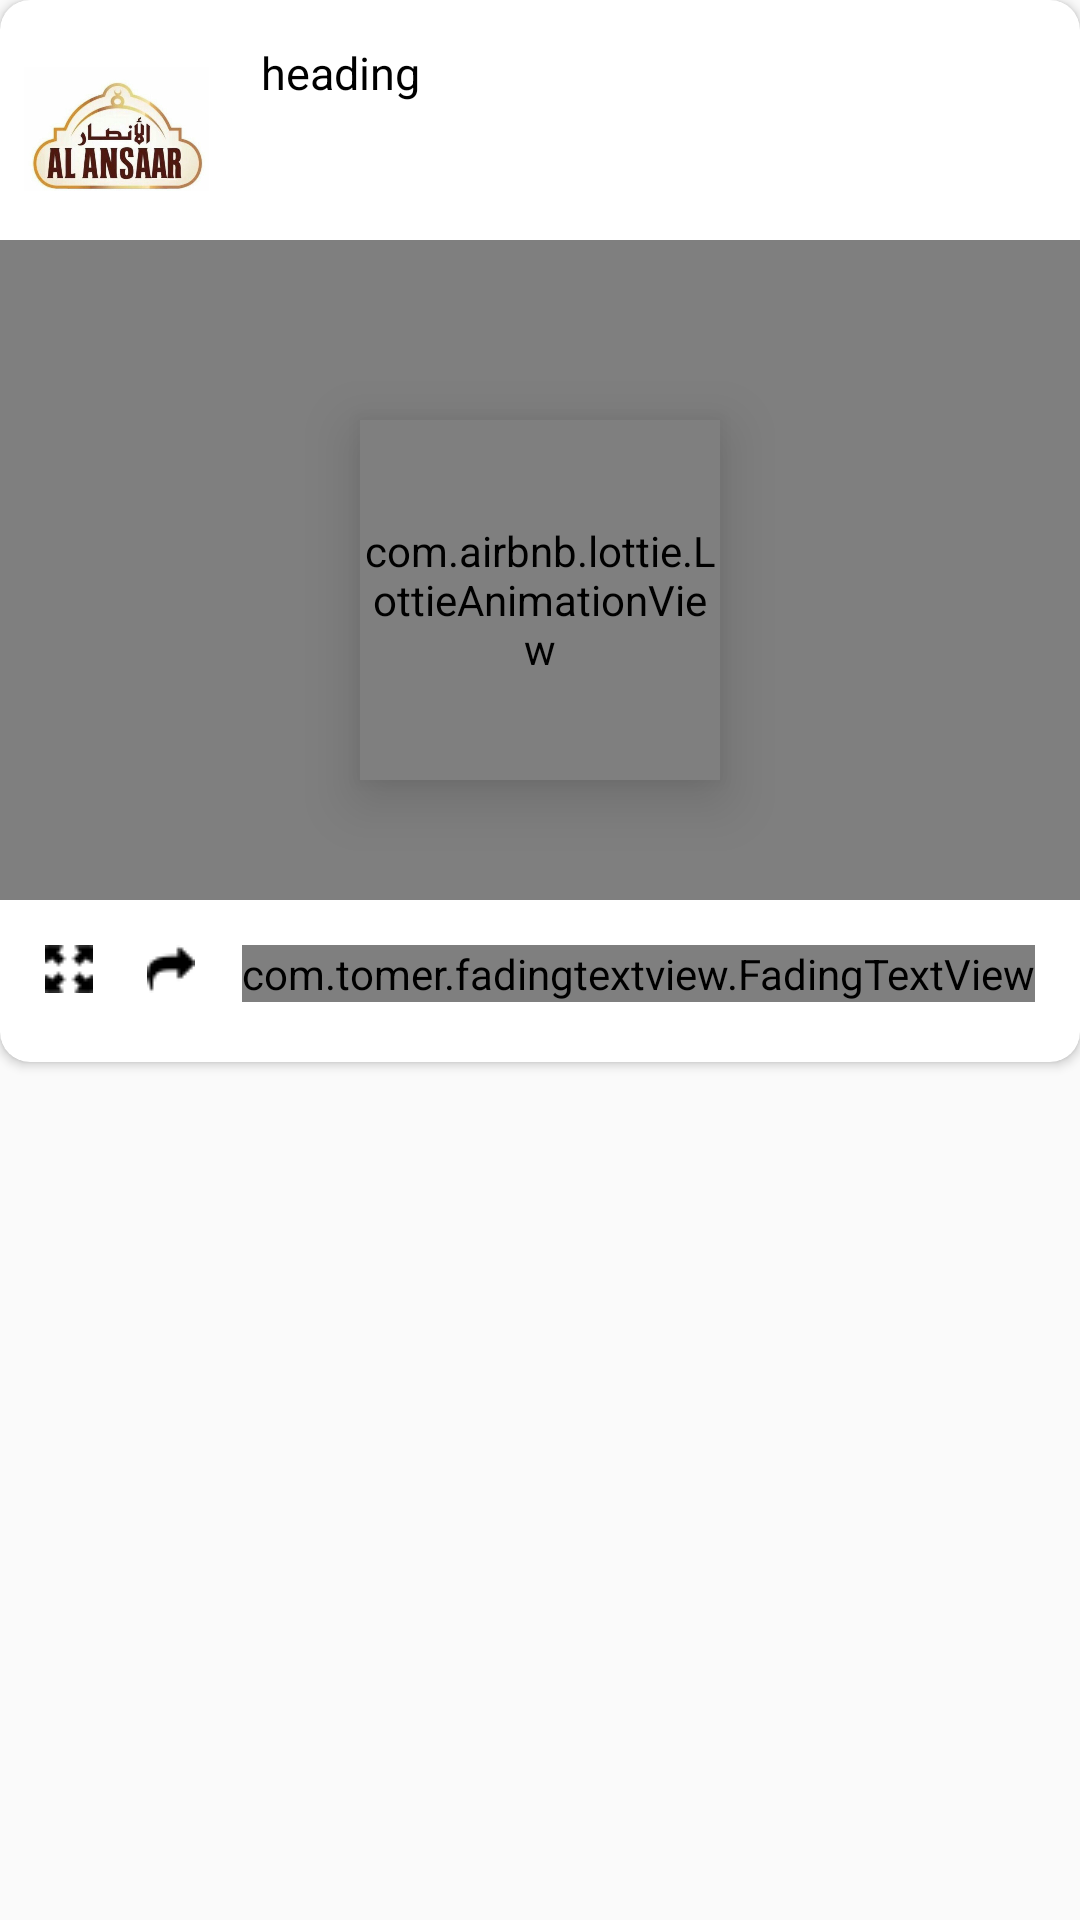

Named icons in this screenshot (1080w x 1920h) and their bounding boxes, (x1, y1, x2, y2):
fullscreen: (45, 945, 93, 993)
shareoptionst: (147, 947, 195, 991)
